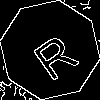R: (25, 25, 81, 83)
